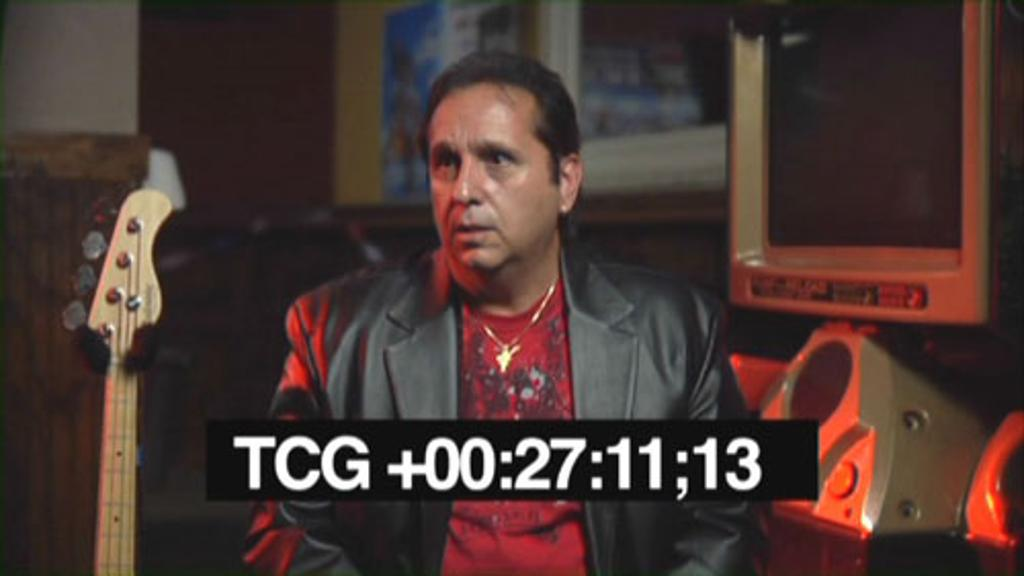face: (433, 85, 561, 275)
